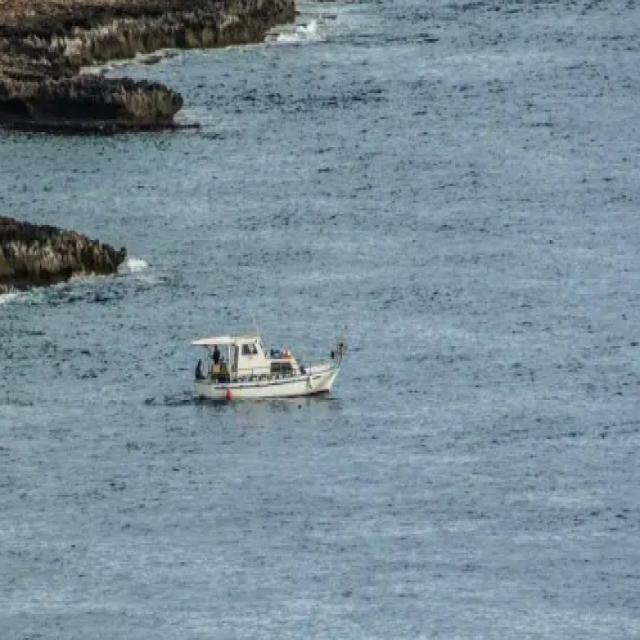houseboat: (192, 320, 347, 397)
